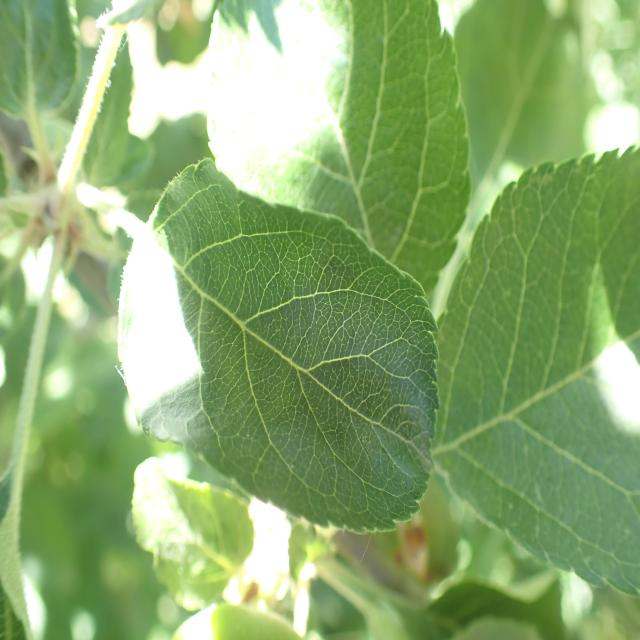healthy: (117, 156, 440, 535), (430, 144, 640, 595), (206, 0, 472, 298), (0, 0, 80, 117)
